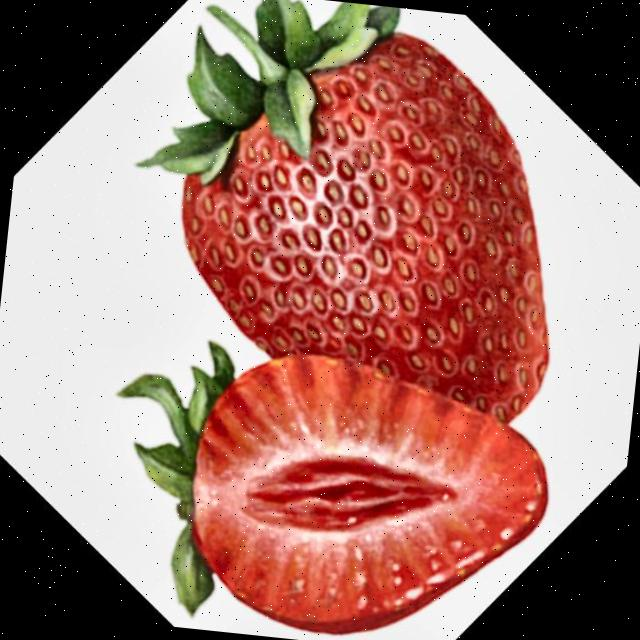strawberry: (138, 0, 547, 420), (119, 341, 546, 633)
